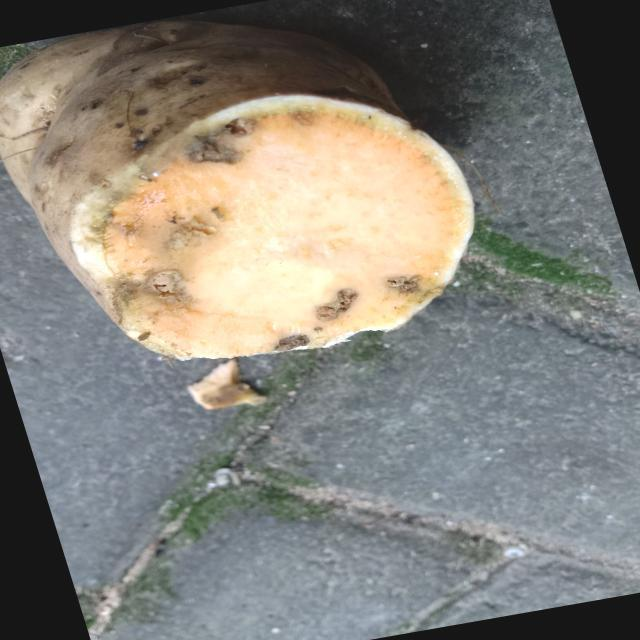Sick Sweet Potato_Tuber Rot: (103, 112, 463, 358)
